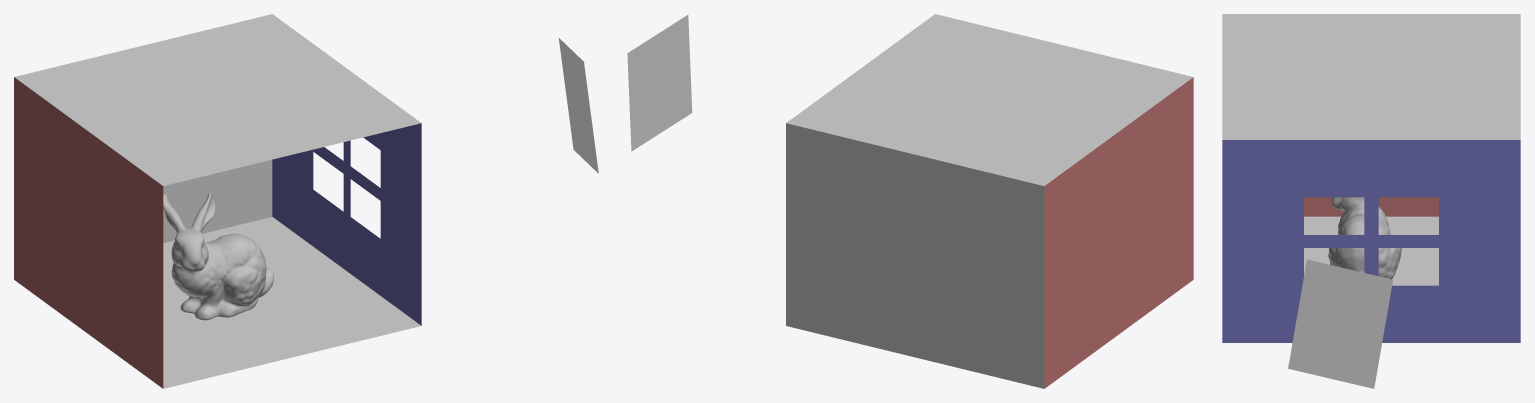
The model's file is windowBunny.dae.
3 views of the same model, side by side, from view 1: azimuth 30°, elevation 25°; view 2: azimuth 150°, elevation 25°; view 3: azimuth 270°, elevation 25° (orthographic).
Visible parts, largest first — view 1: ceiling, leftWall, floor, rightWall, Mesh, backWall, light.001; view 2: backWall, ceiling, leftWall, light.001; view 3: rightWall, ceiling, light.001, floor, Mesh, leftWall.
Part boxes in pixels (x1,y1,x2,y2): ceiling: (14,14,421,185); leftWall: (14,77,163,388); floor: (163,217,420,388); rightWall: (272,123,421,325); Mesh: (163,192,273,320); backWall: (163,159,272,243); light.001: (558,38,598,173); backWall: (786,123,1044,388); ceiling: (786,14,1192,185); leftWall: (1044,77,1193,388); light.001: (627,15,692,151); rightWall: (1222,140,1520,342); ceiling: (1222,14,1520,139); light.001: (1288,259,1392,388); floor: (1304,216,1438,285); Mesh: (1328,197,1401,279); leftWall: (1304,197,1438,216).
Bounding box in the file's own units: 3.76 × 2 × 1.5.
